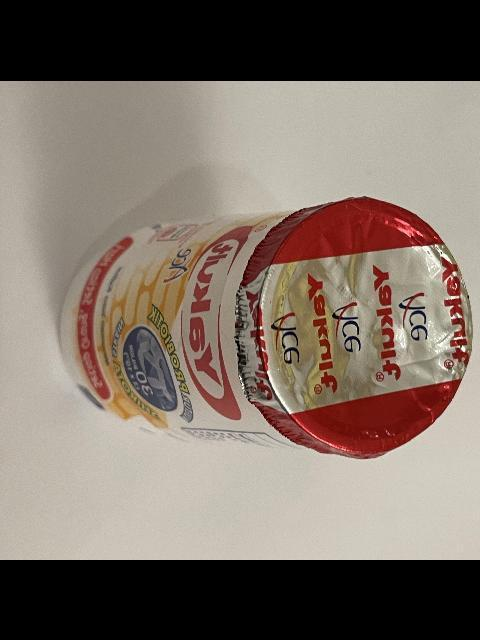plasticbottle: (56, 195, 474, 460)
